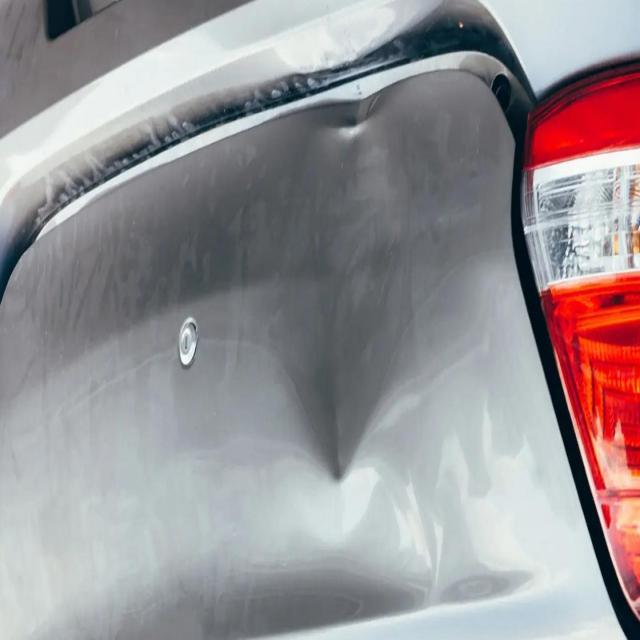dent: (256, 82, 414, 500)
